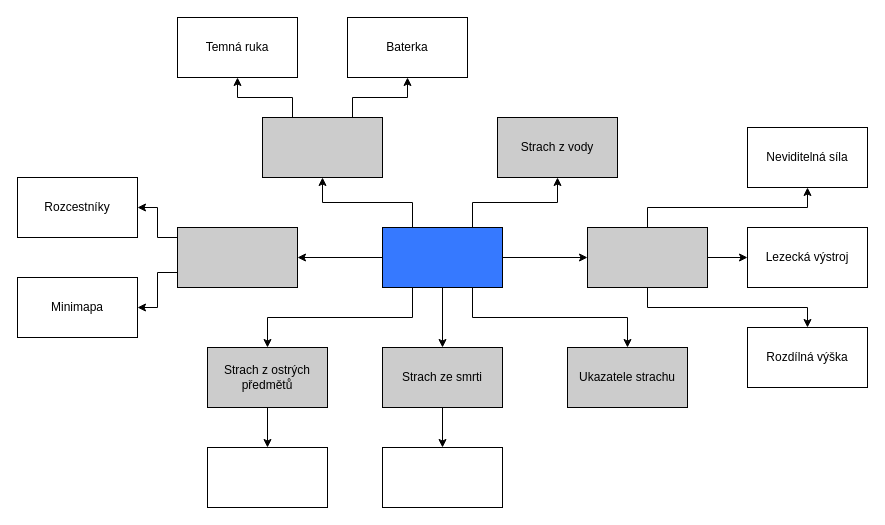
The diagram is 885 pixels wide and 525 high, and some of its shapes have lost their labels. The shapes that lost their labels are listed below. From the top down, each one's centre as x and y in pixels, then its label:
point (322, 147): Strach ze tmy
point (237, 257): Strach z neznáma
point (442, 257): Mechaniky spojené s fobiema
point (647, 257): Strach z výšky
point (267, 477): Ostré předměty
point (442, 477): Omezený počet životů
